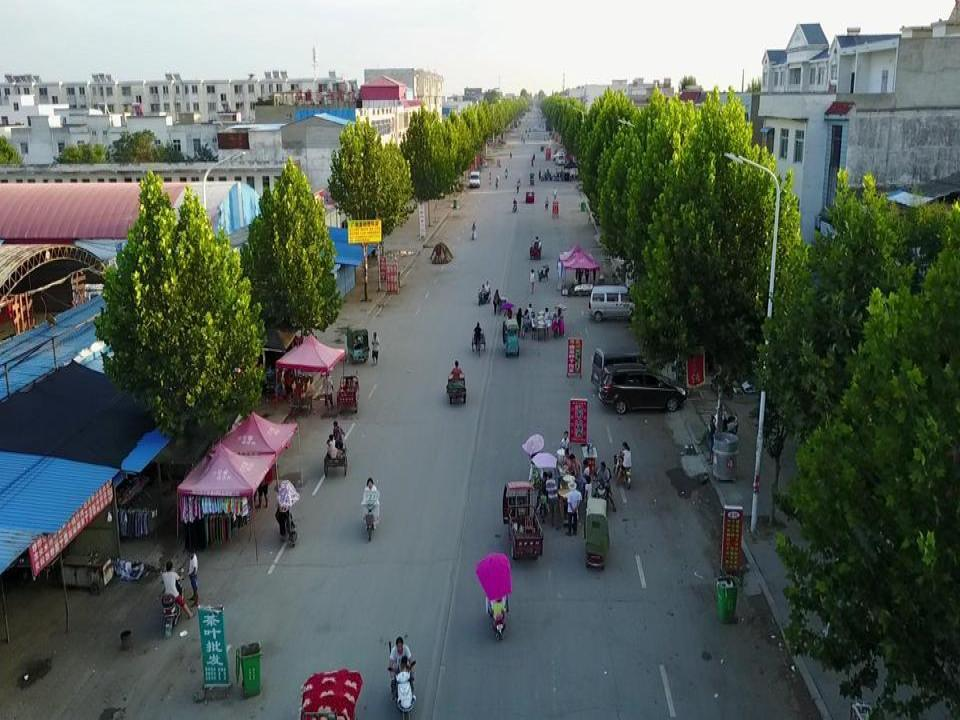car: (597, 361, 687, 415)
van: (590, 345, 655, 392), (588, 285, 640, 323), (468, 169, 481, 188), (525, 189, 535, 203)
